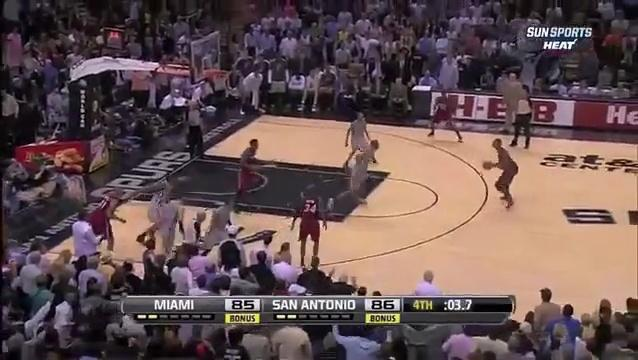Backboard: (191, 31, 218, 87)
Ball: (481, 162, 491, 170)
Basket: (209, 69, 231, 95)
Person: (134, 172, 177, 247), (343, 137, 381, 209), (294, 190, 326, 268), (90, 187, 126, 253), (490, 139, 523, 210), (153, 190, 187, 252), (204, 196, 239, 251), (237, 136, 269, 196), (427, 95, 465, 143), (348, 105, 375, 158)
Referee: (508, 91, 538, 152), (183, 98, 208, 163), (181, 207, 211, 246)
Shot Clock: (104, 28, 125, 52)
